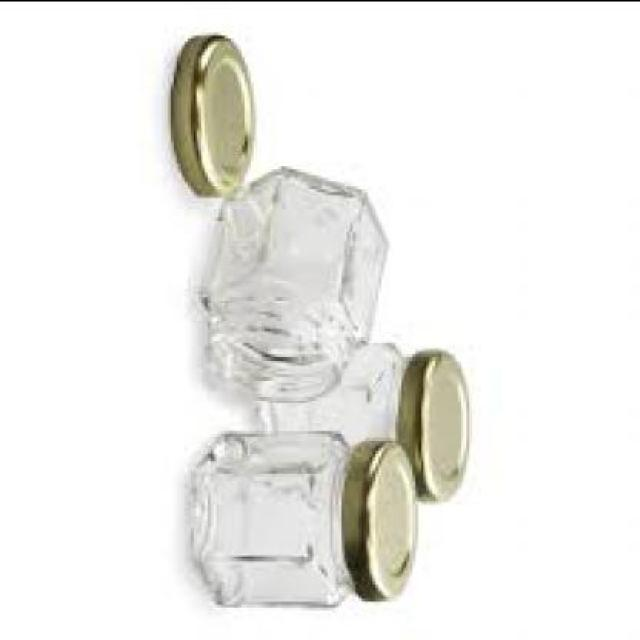GLASS: (197, 168, 391, 402), (192, 434, 354, 609), (257, 343, 408, 445)
METAL: (174, 35, 255, 198), (351, 443, 418, 602), (403, 351, 471, 503)
